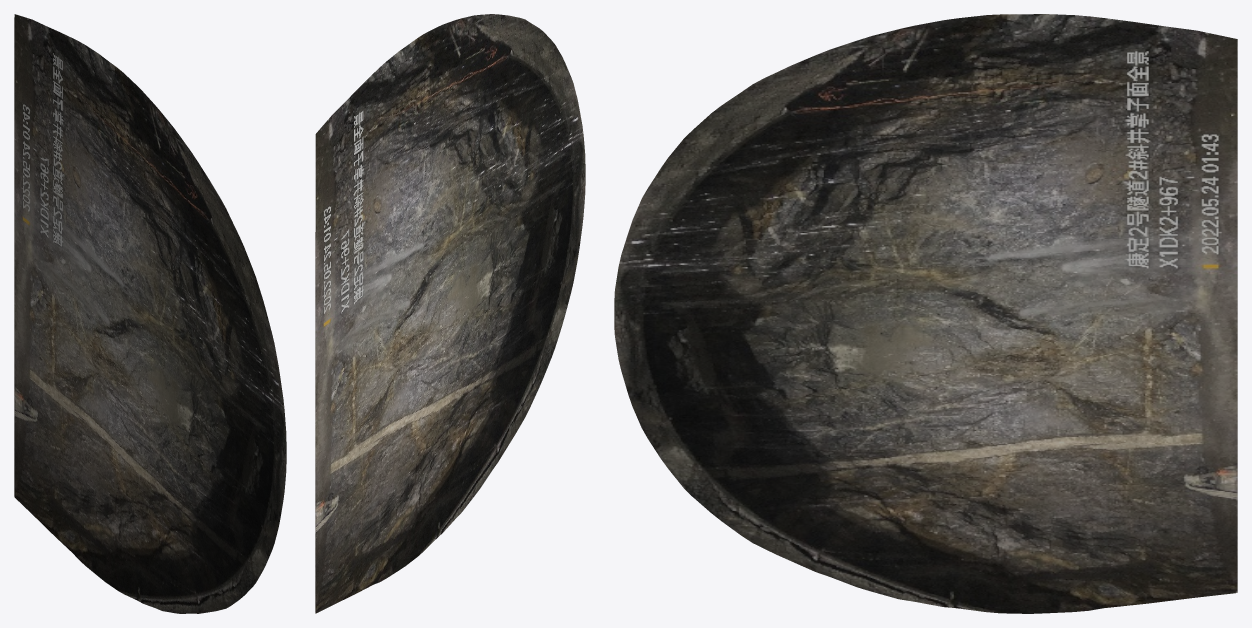
3 renders of one model, left to right at view 1: azimuth 30°, elevation 25°; view 2: azimuth 150°, elevation 25°; view 3: azimuth 270°, elevation 25°, orthographic. The views are drawn at different scales.
Visible parts, largest first — view 1: Node; view 2: Node; view 3: Node.
Boxes of the visible parts, bbox=[...] form: Node: bbox=[14, 14, 286, 613]; Node: bbox=[315, 14, 585, 613]; Node: bbox=[614, 14, 1237, 613].
Bounding box in the file's own units: 0 × 9.55 × 9.
Materials: 1 (1 with a texture image).
